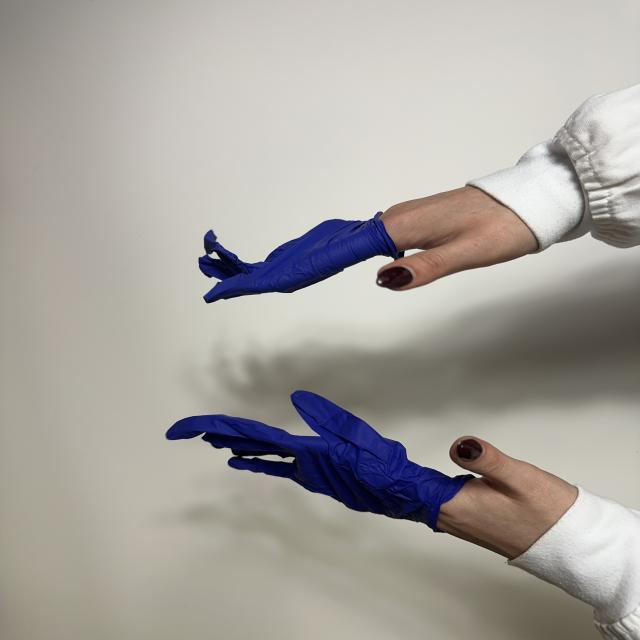glove_partial: (167, 391, 578, 560), (201, 186, 538, 302)
